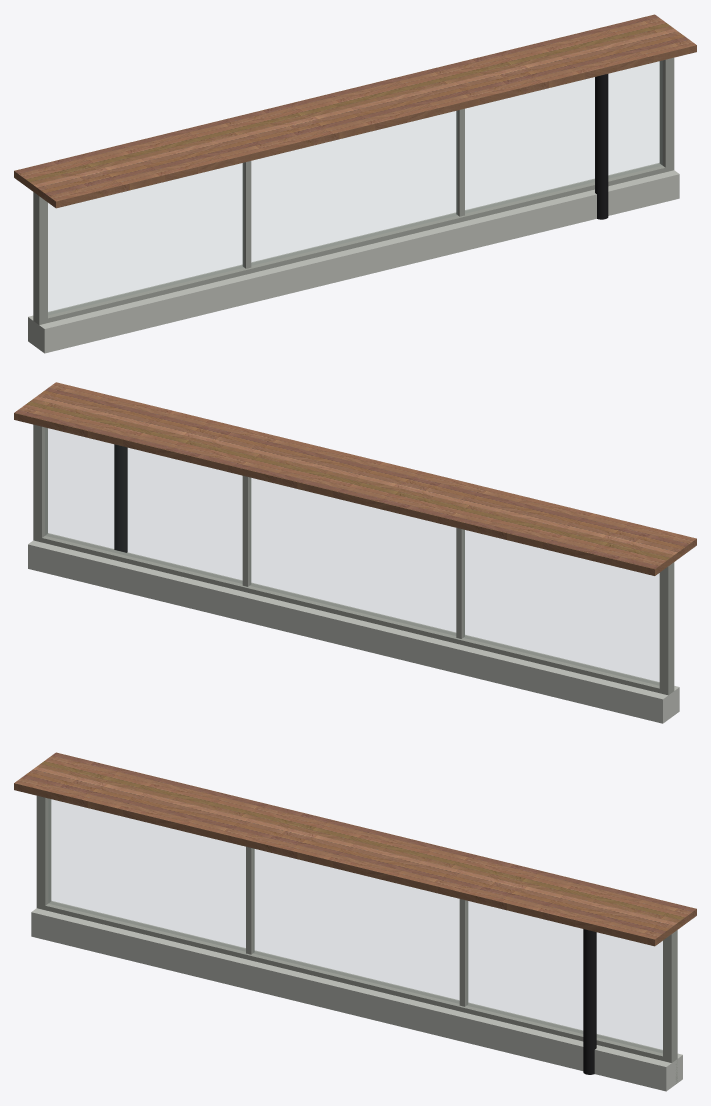
The model's file is butcher_block_bar_counter.glb.
3 renders of one model, top to bottom at view 1: azimuth 30°, elevation 25°; view 2: azimuth 150°, elevation 25°; view 3: azimuth 330°, elevation 25°, orthographic.
Parts seen in each view (by area): view 1: butcher_block_bar_counter; view 2: butcher_block_bar_counter; view 3: butcher_block_bar_counter.
Boxes of the visible parts, x1,y1,x2,y2 form: butcher_block_bar_counter: (14,14,696,353); butcher_block_bar_counter: (14,382,696,723); butcher_block_bar_counter: (14,752,696,1091).
Size of the model in its own units: 4.4 by 1.07 by 0.5.
Materials: 6 (2 with a texture image).
